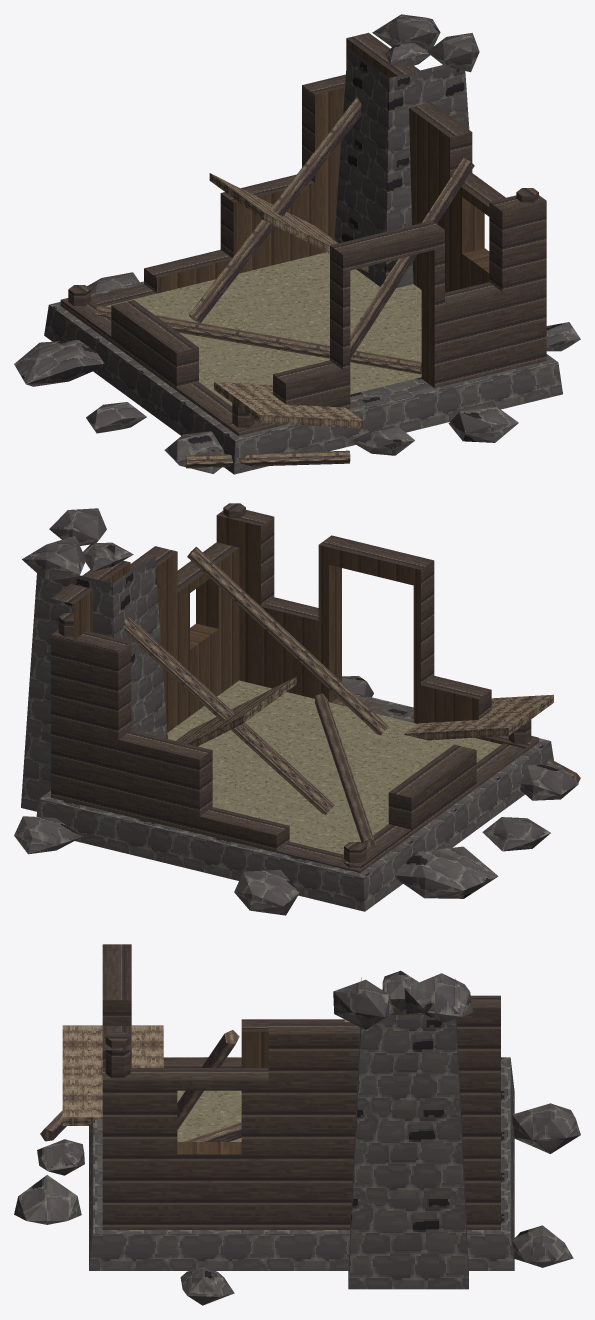
The model's file is farmhouse_stage0.glb.
The picture shows the model from 3 angles, top to bottom: view 1: azimuth 30°, elevation 25°; view 2: azimuth 150°, elevation 25°; view 3: azimuth 270°, elevation 25°; orthographic projection. The views are drawn at different scales.
Parts seen in each view (by area): view 1: farmhouse_stage0; view 2: farmhouse_stage0; view 3: farmhouse_stage0.
Boxes of the visible parts, x1,y1,x2,y2 form: farmhouse_stage0: (14, 14, 580, 474); farmhouse_stage0: (14, 503, 580, 915); farmhouse_stage0: (14, 944, 580, 1305).
Bounding box in the file's own units: 6.24 × 3.44 × 5.84.
6 materials, 6 textured.
